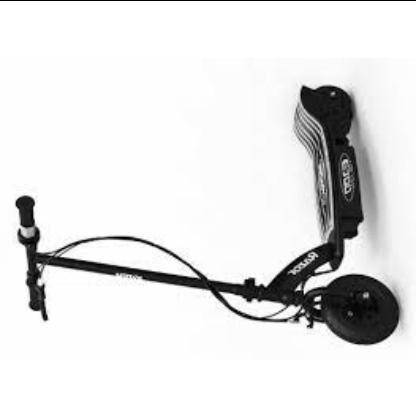bike: (12, 85, 400, 347)
